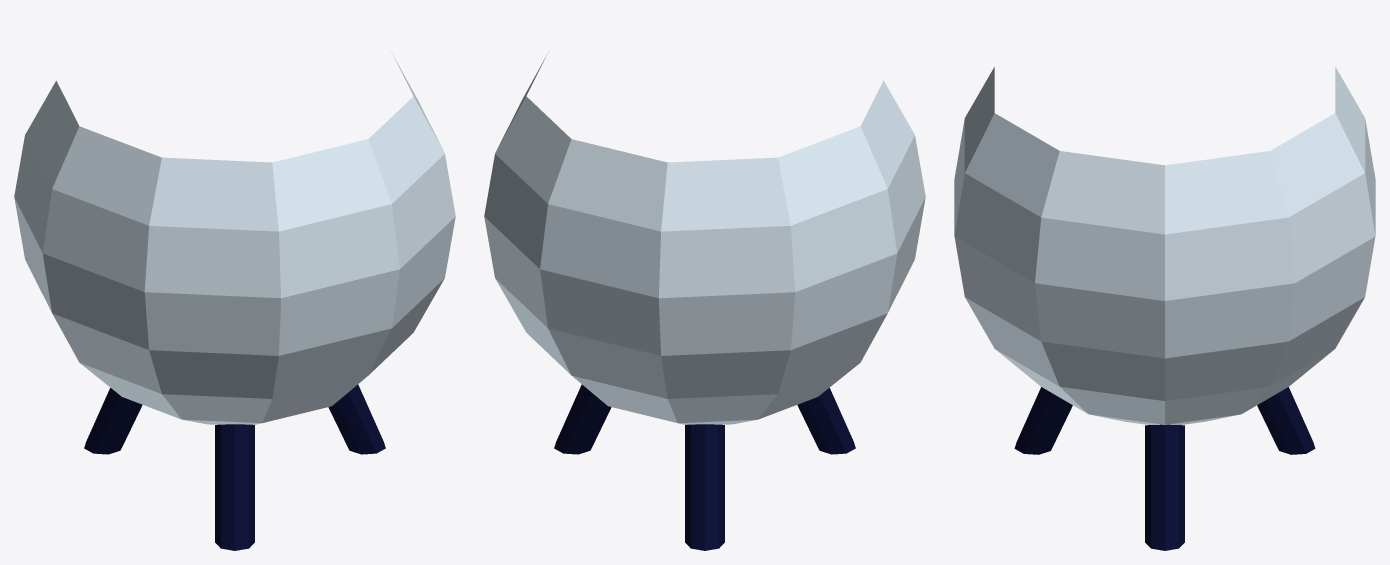
Rendered from PBR - Metallic Roughness Alpha-blend.glb.
3 renders of one model, left to right at view 1: azimuth 30°, elevation 25°; view 2: azimuth 150°, elevation 25°; view 3: azimuth 270°, elevation 25°, orthographic.
Visible parts, largest first — view 1: tank1_pCylinder6 (×2); view 2: tank1_pCylinder6 (×2); view 3: tank1_pCylinder6 (×2).
Part boxes in pixels (x1,y1,x2,y2): tank1_pCylinder6 (×2): (14, 52, 455, 550); tank1_pCylinder6 (×2): (484, 52, 925, 550); tank1_pCylinder6 (×2): (954, 67, 1375, 550).
Bounding box in the file's own units: 1.14 × 1.11 × 1.08.
2 materials, 2 textured.
